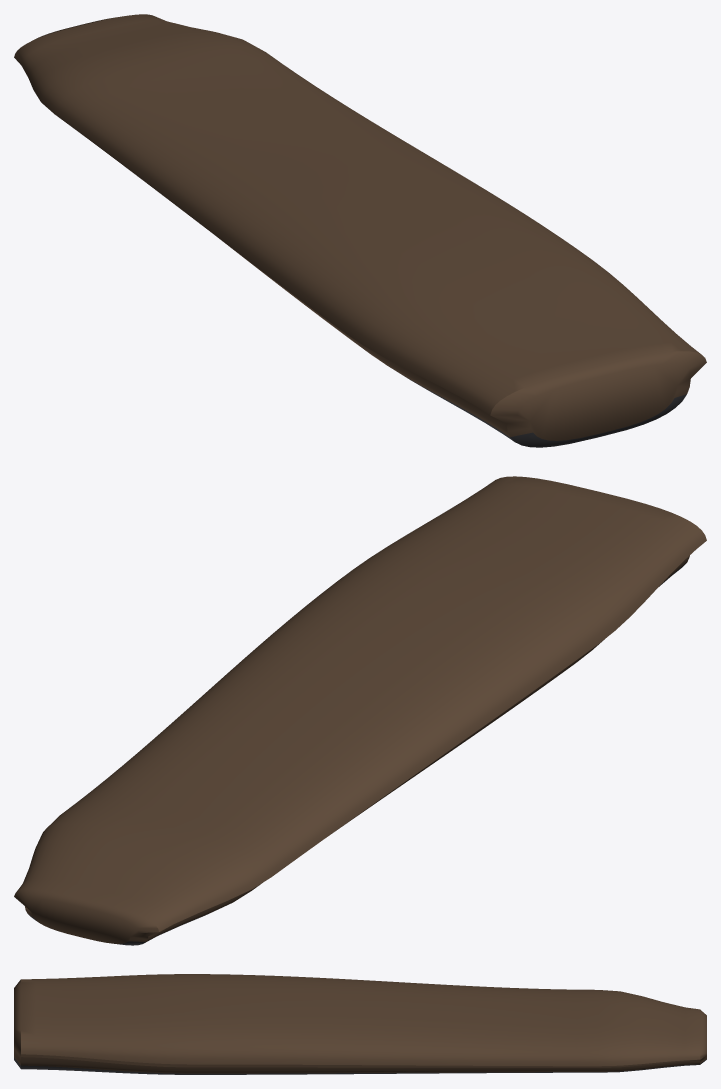
The model's file is solo.glb.
The picture shows the model from 3 angles, top to bottom: view 1: azimuth 30°, elevation 25°; view 2: azimuth 150°, elevation 25°; view 3: azimuth 270°, elevation 25°; orthographic projection. The views are drawn at different scales.
Visible parts, largest first — view 1: lod0; view 2: lod0; view 3: lod0.
Part boxes in pixels (box(x1,y1,x2,y2)): lod0: box(14, 14, 706, 447); lod0: box(14, 476, 706, 945); lod0: box(14, 974, 706, 1074).
Size of what is drawn, in the model's own units: 0.2792 by 0.08 by 1.
